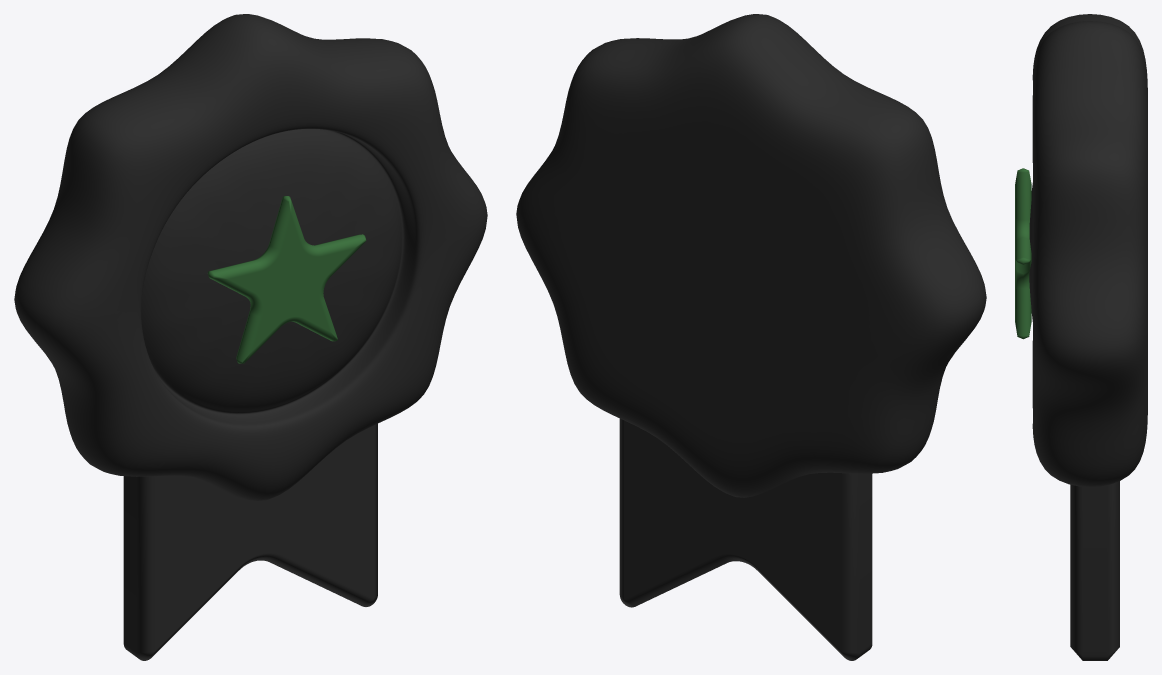
Rendered from testimonial-transformed.glb.
The picture shows the model from 3 angles, left to right: view 1: azimuth 30°, elevation 25°; view 2: azimuth 150°, elevation 25°; view 3: azimuth 270°, elevation 25°; orthographic projection. The views are drawn at different scales.
Parts seen in each view (by area): view 1: Cylinder, Star; view 2: Cylinder; view 3: Cylinder, Star.
Part boxes in pixels (x1,y1,x2,y2): Cylinder: (14,14,487,660); Star: (207,196,366,363); Cylinder: (516,14,986,660); Cylinder: (1029,14,1147,660); Star: (1015,168,1031,339).
Size of the model in its own units: 1.2 by 1.55 by 0.3205.
